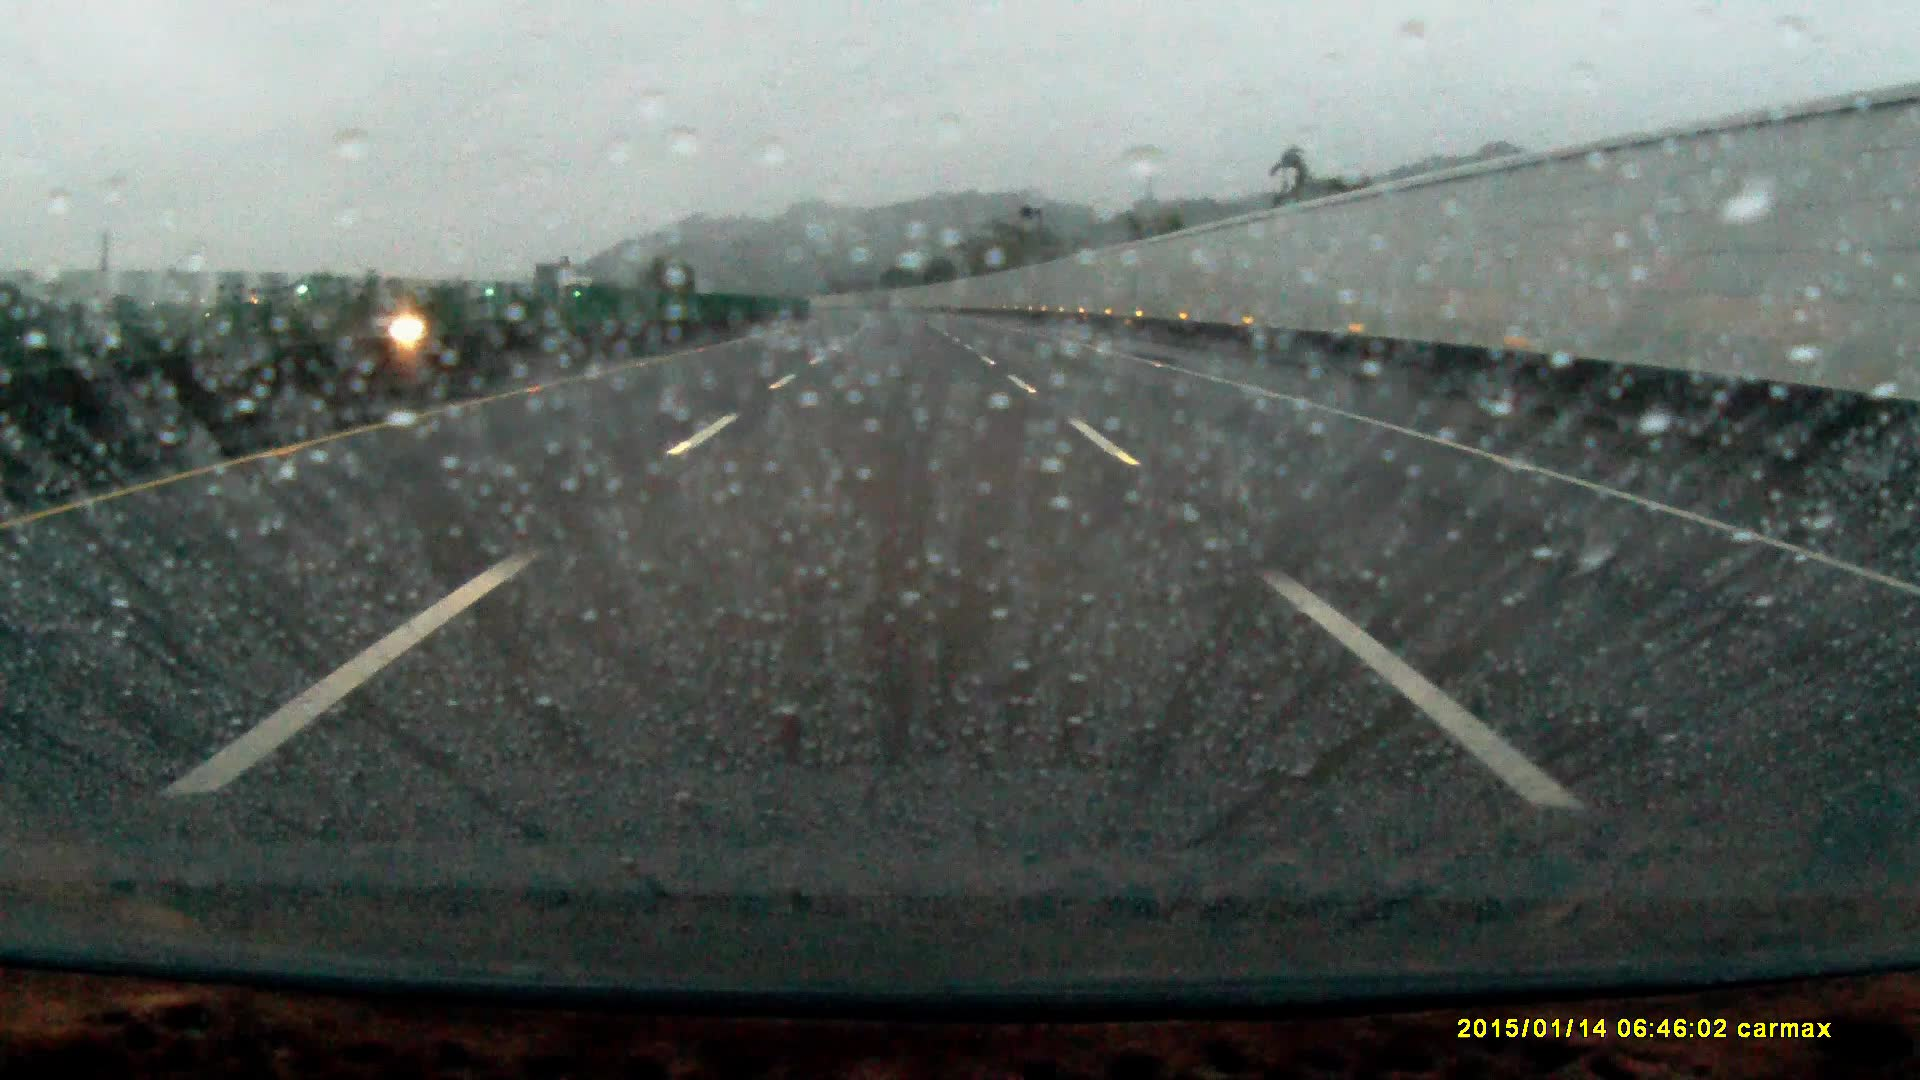vehicle: (356, 301, 448, 342)
